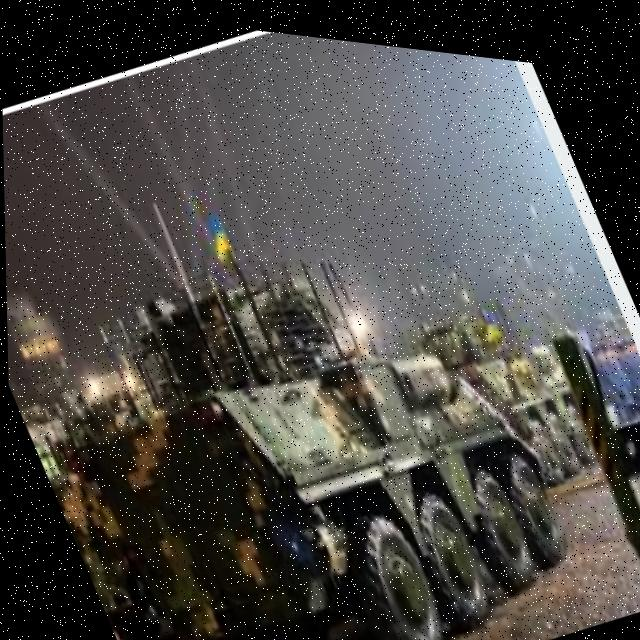MIL_APC: (6, 199, 619, 640)
